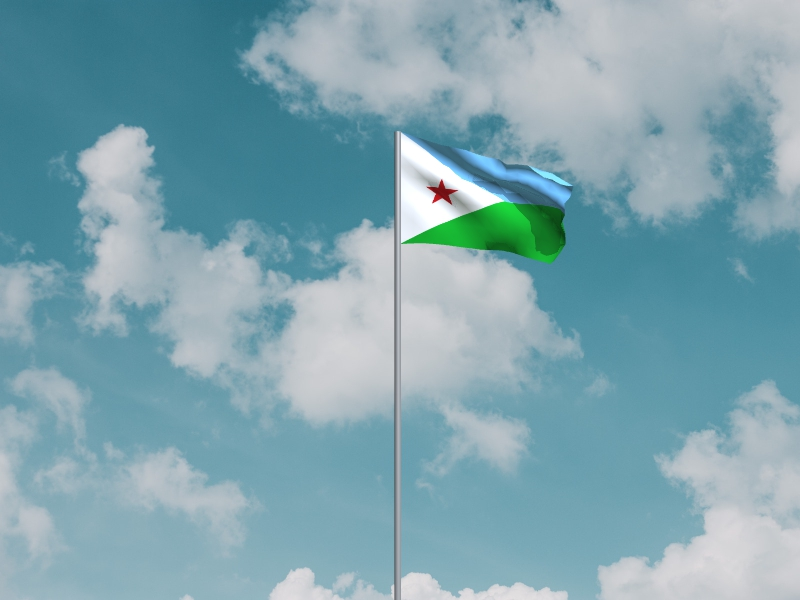dj: (402, 133, 575, 266)
